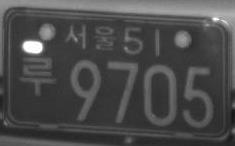0: (141, 62, 178, 127)
1: (147, 26, 166, 58)
5: (180, 64, 216, 130), (122, 24, 145, 56)
7: (105, 59, 141, 124)
9: (67, 58, 103, 122)
루: (18, 54, 58, 97)
서울_O: (63, 22, 118, 52)
